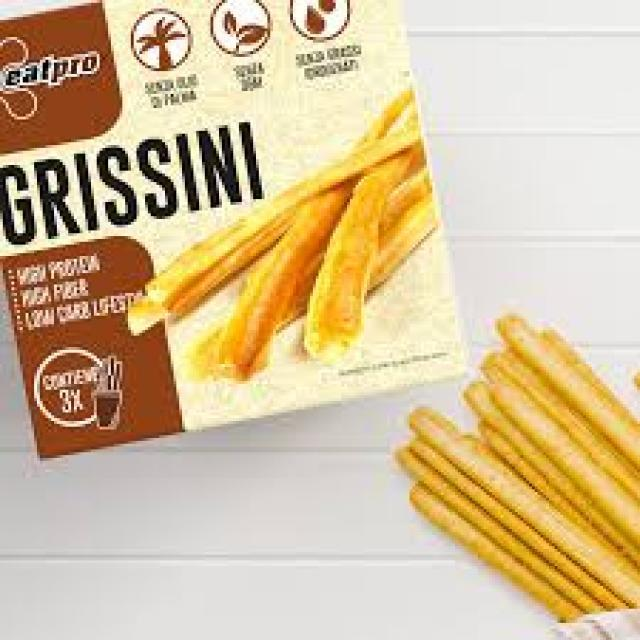Grissini: (398, 313, 640, 606)
